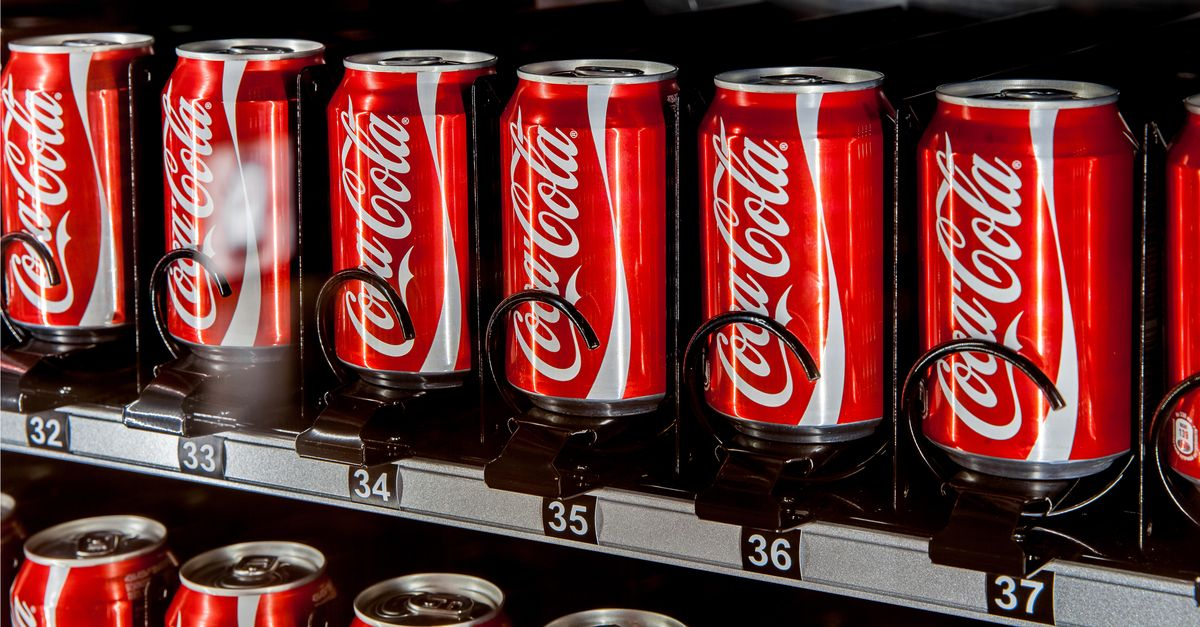coke: (916, 82, 1147, 479), (695, 68, 885, 442), (510, 62, 685, 415), (331, 56, 495, 370), (164, 40, 317, 368), (5, 40, 152, 335), (17, 535, 163, 627), (169, 551, 322, 615), (1177, 93, 1200, 481), (364, 585, 509, 627)
